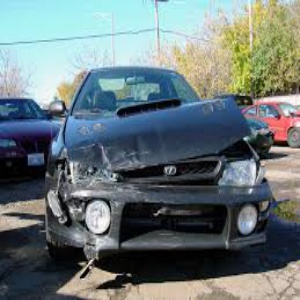bonnet: (78, 101, 250, 158)
bumper: (44, 232, 119, 265)
